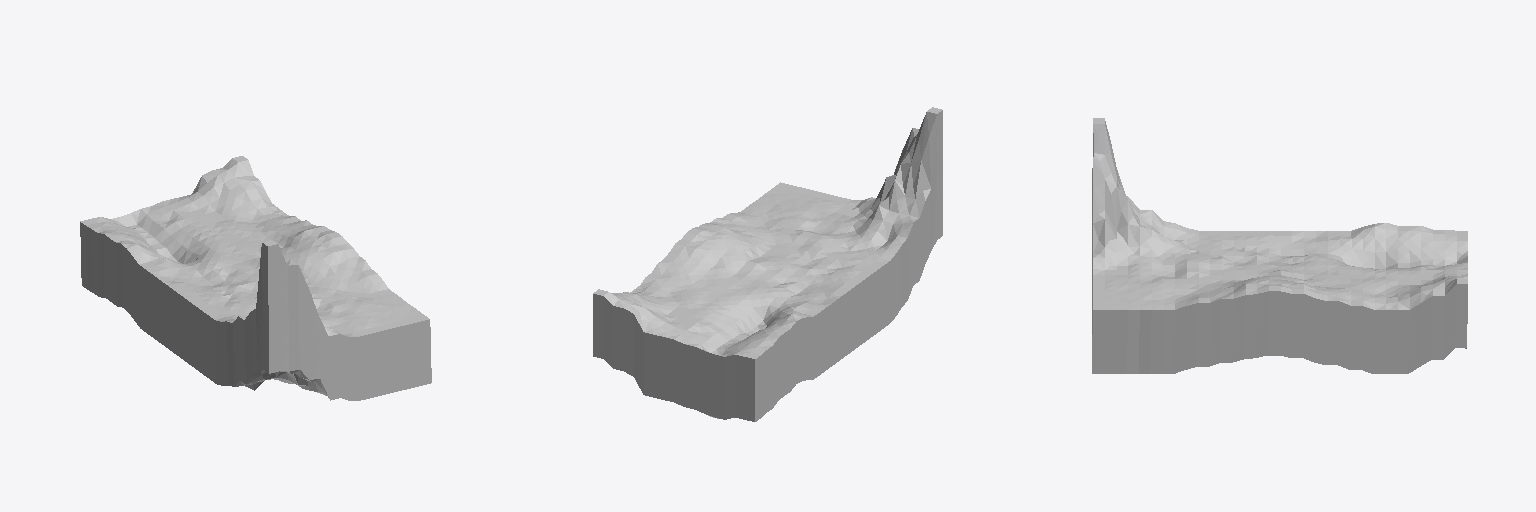
The picture shows the model from 3 angles: view 1: azimuth 30°, elevation 25°; view 2: azimuth 150°, elevation 25°; view 3: azimuth 270°, elevation 25°; orthographic projection.
Parts seen in each view (by area): view 1: Ground.003_Plane.011; view 2: Ground.003_Plane.011; view 3: Ground.003_Plane.011.
Boxes of the visible parts, x1,y1,x2,y2 form: Ground.003_Plane.011: [80, 156, 431, 400]; Ground.003_Plane.011: [593, 107, 942, 421]; Ground.003_Plane.011: [1092, 118, 1467, 373].
Size of the model in its own units: 80.41 by 91.96 by 161.